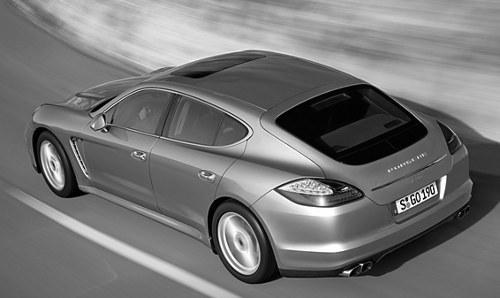car: (25, 50, 476, 282)
